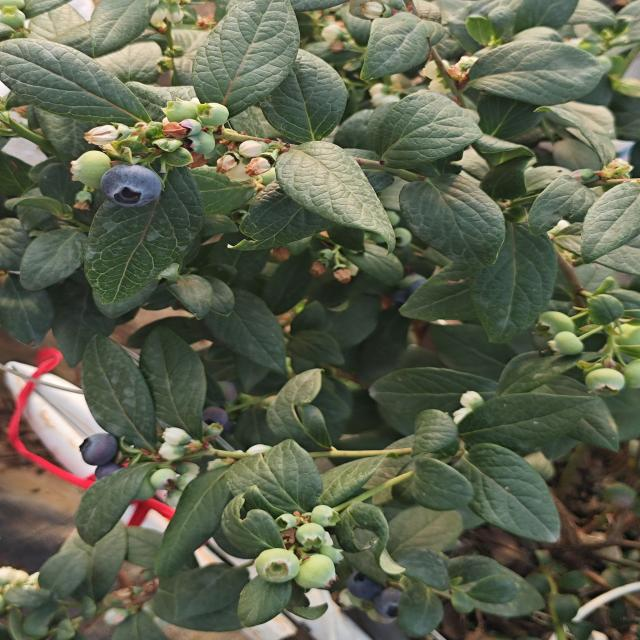ripe: (87, 166, 171, 216), (344, 568, 412, 622), (374, 270, 436, 310), (65, 428, 119, 466)
